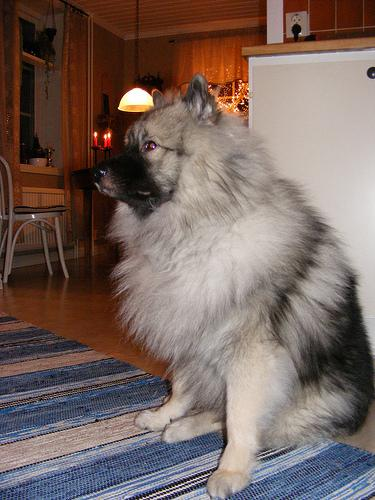dog-keeshond: (89, 71, 220, 207)
